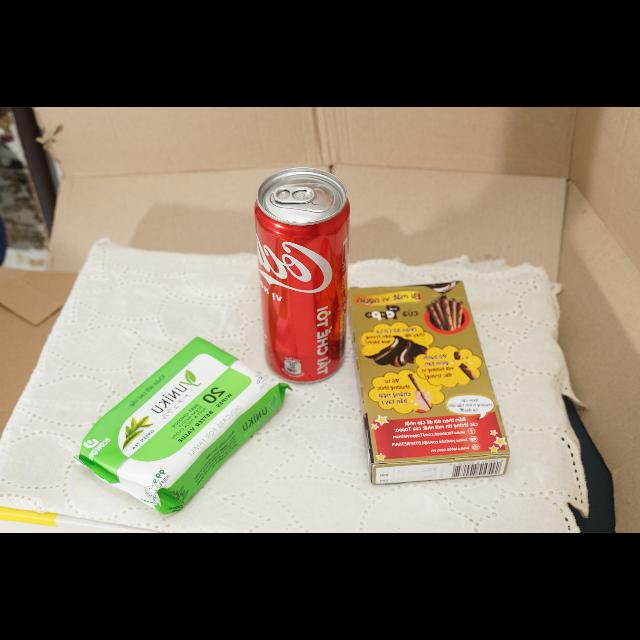banh_toppo_socola: (350, 282, 510, 485)
coca_cola: (255, 168, 350, 383)
khan_giay: (75, 338, 290, 514)
